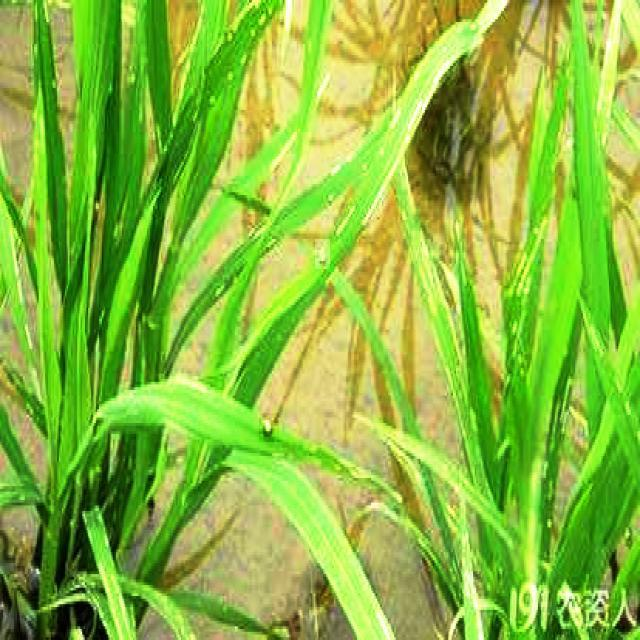rice-bug: (259, 413, 279, 442), (315, 239, 330, 269)
